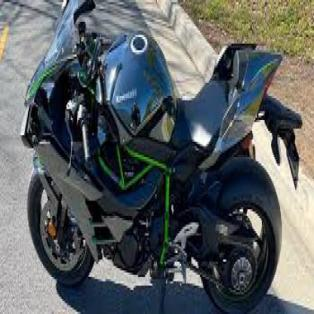Motocicleta: (14, 0, 305, 312)
